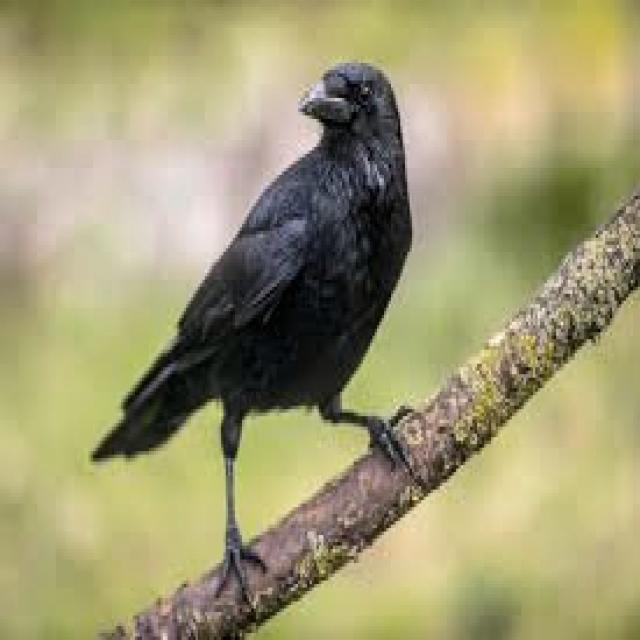crow: (93, 63, 410, 595)
